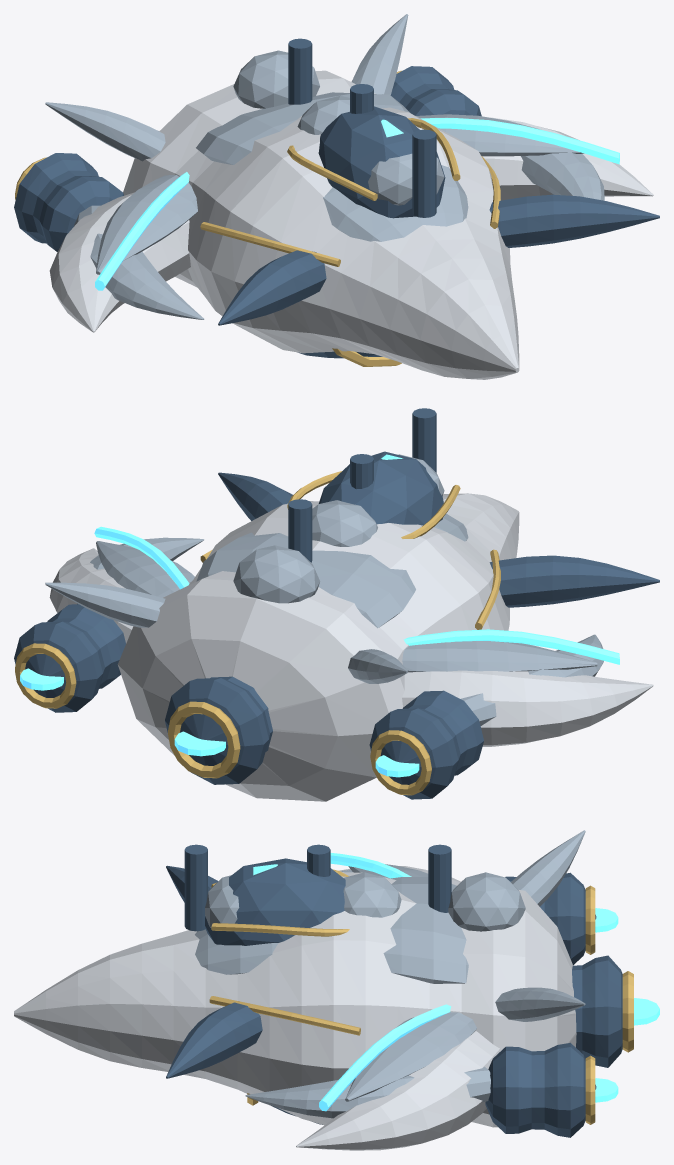
Rendered from SL_BULWARK_LOD.glb.
3 views of the same model, one above another, from view 1: azimuth 30°, elevation 25°; view 2: azimuth 150°, elevation 25°; view 3: azimuth 270°, elevation 25° (orthographic). The views are drawn at different scales.
Visible parts, largest first — view 1: armor, plate, dark, energy, accent; view 2: armor, dark, plate, accent, energy; view 3: armor, dark, plate, accent, energy.
Boxes of the visible parts, x1=… form: armor: x1=49, y1=70, x2=653, y2=379; plate: x1=45, y1=14, x2=604, y2=319; dark: x1=14, y1=38, x2=659, y2=358; energy: x1=95, y1=118, x2=619, y2=290; accent: x1=15, y1=70, x2=500, y2=366; armor: x1=49, y1=493, x2=653, y2=801; dark: x1=14, y1=408, x2=659, y2=799; plate: x1=45, y1=454, x2=603, y2=725; accent: x1=15, y1=471, x2=500, y2=795; energy: x1=20, y1=454, x2=619, y2=777; armor: x1=14, y1=866, x2=576, y2=1150; dark: x1=166, y1=844, x2=622, y2=1137; plate: x1=195, y1=830, x2=585, y2=1118; accent: x1=209, y1=869, x2=633, y2=1124; energy: x1=253, y1=853, x2=659, y2=1111.
Size of the model in its own units: 5.39 by 2.47 by 5.49.
